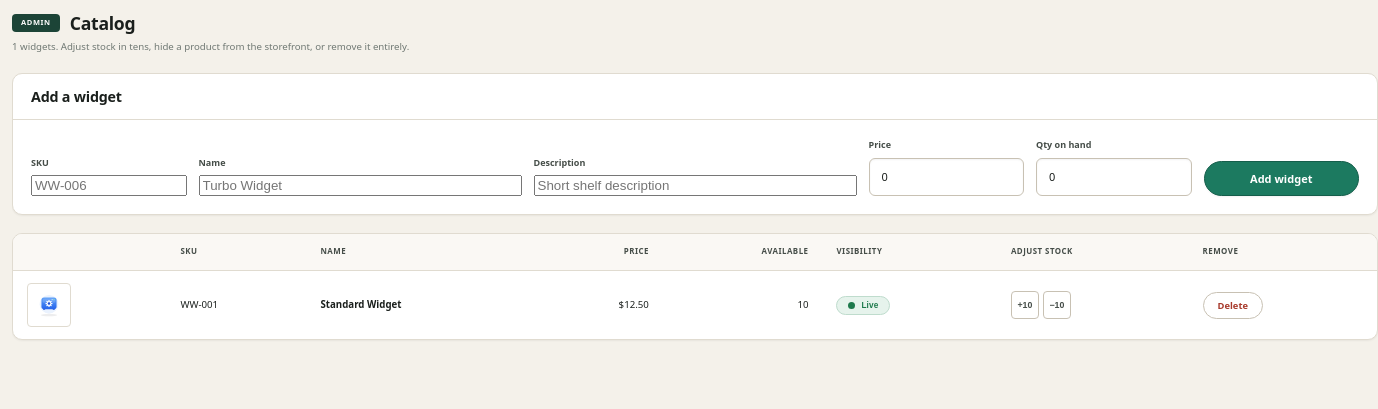
Test: AdminWidgetsPage › reports a refused stock adjustment
Click the button named "Remove 10 from Standard Widget" at {"x": 1057, "y": 305}, box [1043,291,1071,319]
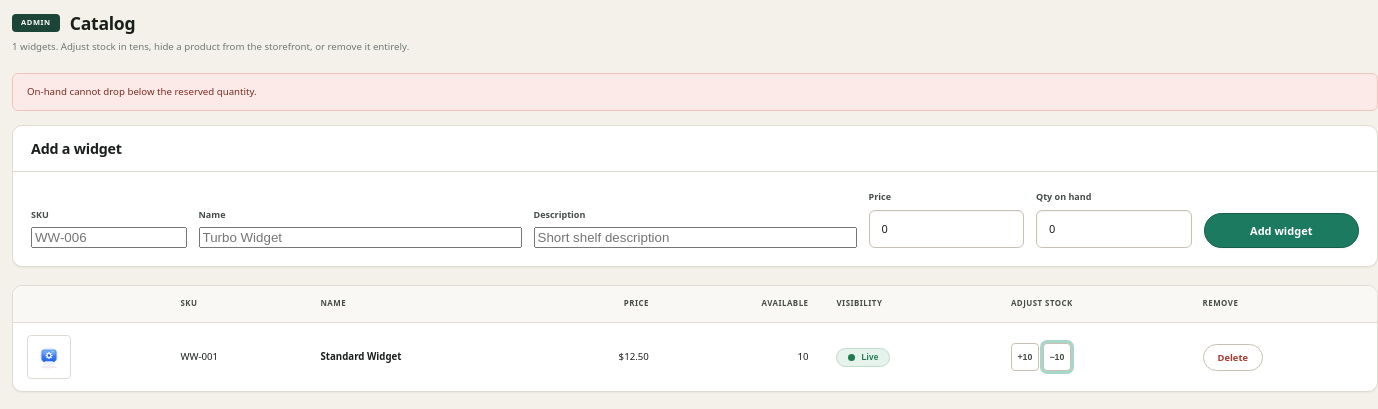
Expected: the text "On-hand cannot drop below the reserved quantity." is shown, [12,72,1377,110]
